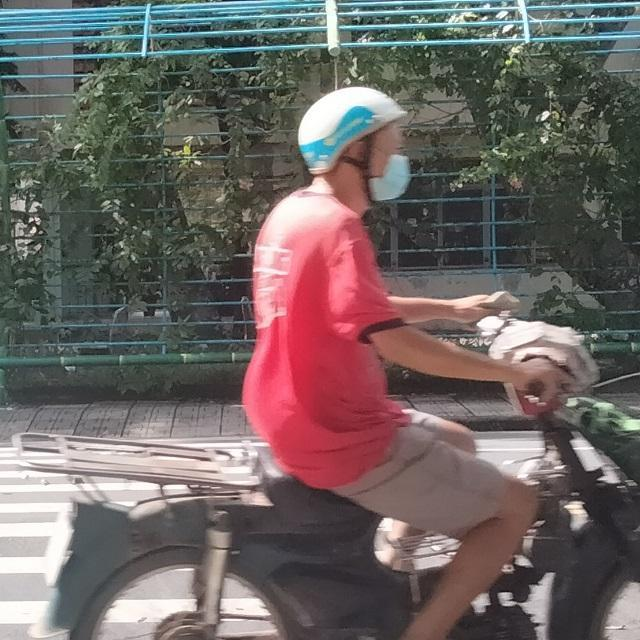Helmet: (295, 84, 417, 208)
